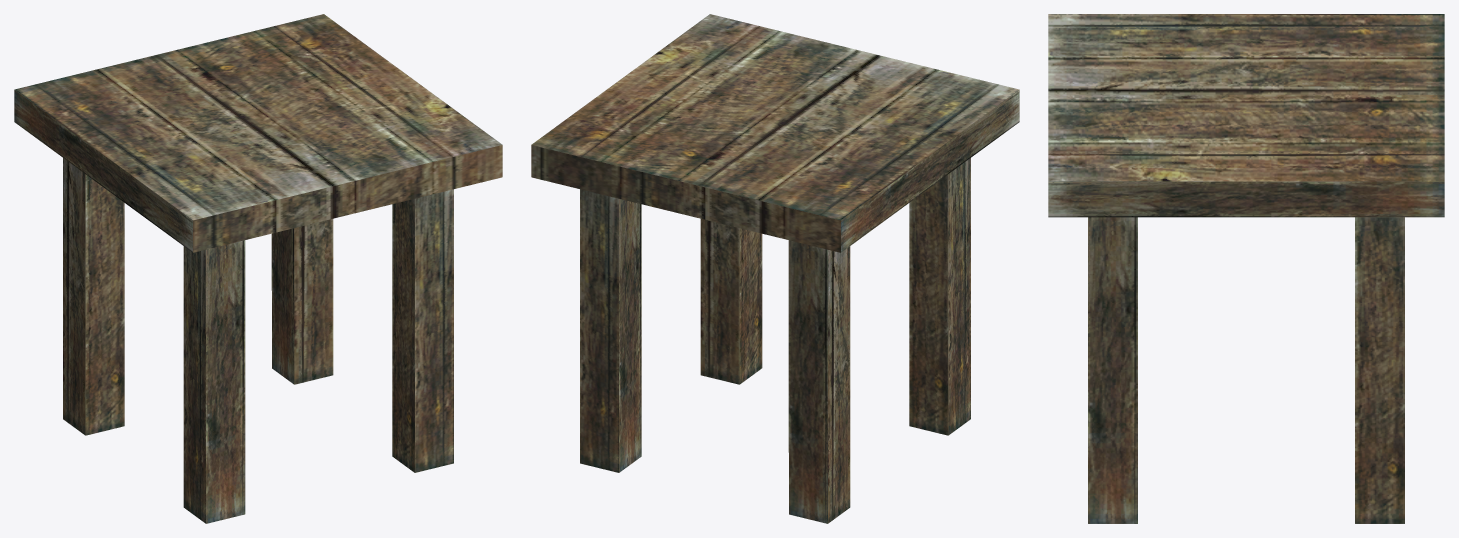
The model's file is chair2.glb.
The picture shows the model from 3 angles, left to right: view 1: azimuth 30°, elevation 25°; view 2: azimuth 150°, elevation 25°; view 3: azimuth 270°, elevation 25°; orthographic projection. The views are drawn at different scales.
Parts seen in each view (by area): view 1: chair2-col; view 2: chair2-col; view 3: chair2-col.
Boxes of the visible parts, x1,y1,x2,y2 form: chair2-col: (14, 14, 502, 523); chair2-col: (531, 14, 1019, 523); chair2-col: (1048, 14, 1444, 523).
Size of the model in its own units: 0.5 by 0.5 by 0.5.
1 material, 1 textured.
